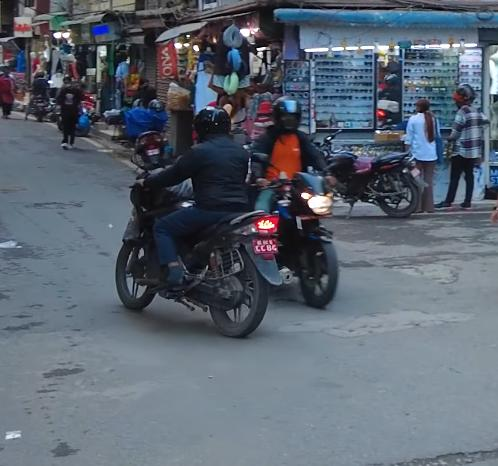bike: (113, 165, 283, 336), (245, 161, 343, 311), (312, 117, 431, 221)
